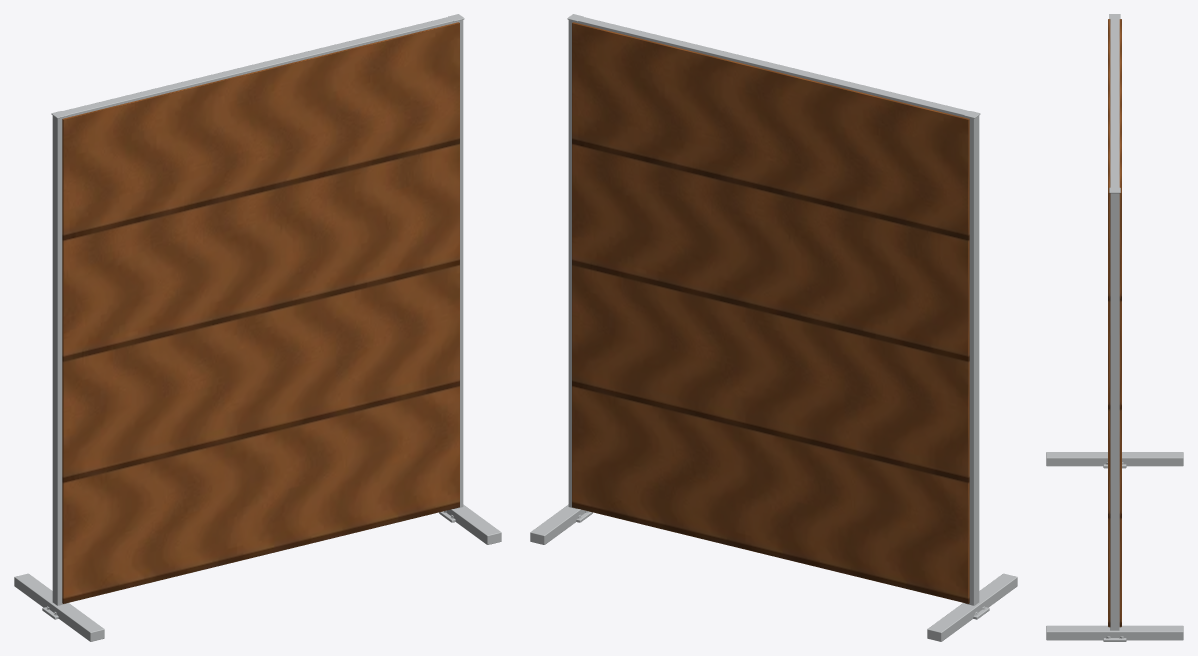
File: fps-weapon-set-and-firing-range-barricade-wall-34c33bcd__19519.glb
3 views of the same model, side by side, from view 1: azimuth 30°, elevation 25°; view 2: azimuth 150°, elevation 25°; view 3: azimuth 270°, elevation 25° (orthographic). The views are drawn at different scales.
Parts seen in each view (by area): view 1: barricade-wall; view 2: barricade-wall; view 3: barricade-wall.
Boxes of the visible parts, bbox=[...] form: barricade-wall: bbox=[14, 14, 501, 641]; barricade-wall: bbox=[530, 14, 1017, 641]; barricade-wall: bbox=[1046, 14, 1183, 641].
Bounding box in the file's own units: 1.58 × 1.8 × 0.4999.
2 materials, 1 textured.
